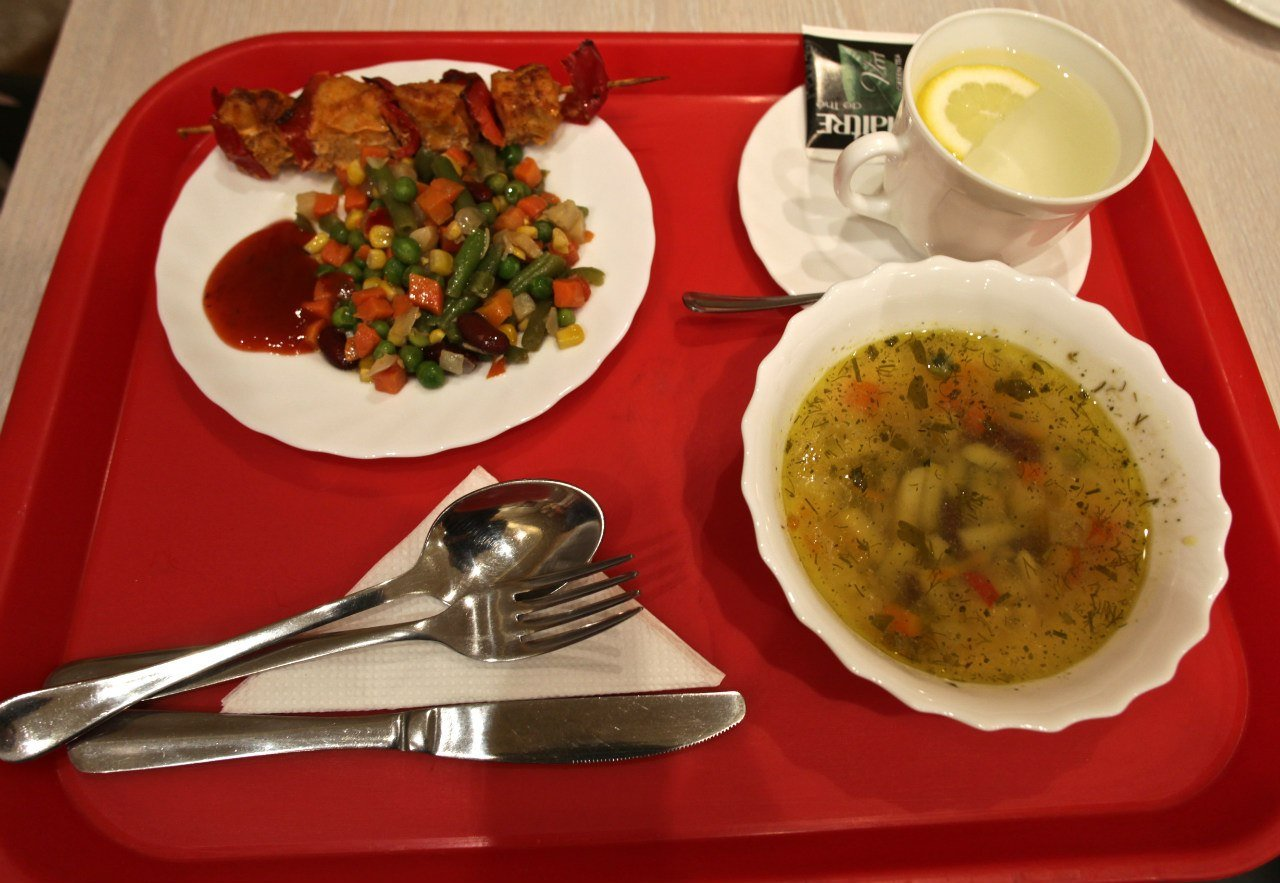bowl: (740, 254, 1229, 735)
cutlery: (147, 479, 642, 700), (80, 686, 748, 774), (681, 276, 830, 323)
drink: (832, 5, 1162, 272)
other: (797, 19, 922, 155)
plate: (151, 43, 656, 461)
